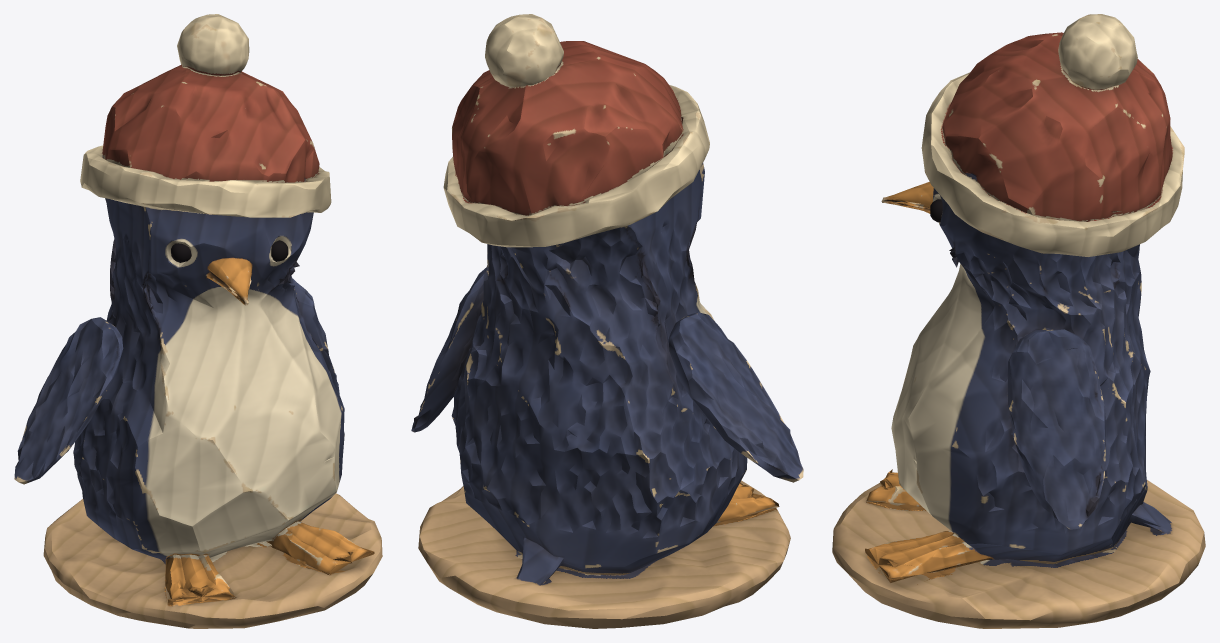
Rendered from penguin.fbx.
3 views of the same model, side by side, from view 1: azimuth 30°, elevation 25°; view 2: azimuth 150°, elevation 25°; view 3: azimuth 270°, elevation 25° (orthographic). The views are drawn at different scales.
Visible parts, largest first — view 1: Penguin_Body, Penguin_Eyes; view 2: Penguin_Body; view 3: Penguin_Body.
Part boxes in pixels (<box>): Penguin_Body: <box>14,14,382,628</box>; Penguin_Eyes: <box>171,240,288,262</box>; Penguin_Body: <box>411,14,803,628</box>; Penguin_Body: <box>832,14,1205,628</box>.
Bounding box in the file's own units: 2.39 × 3.45 × 2.09.
2 materials, 1 textured.
